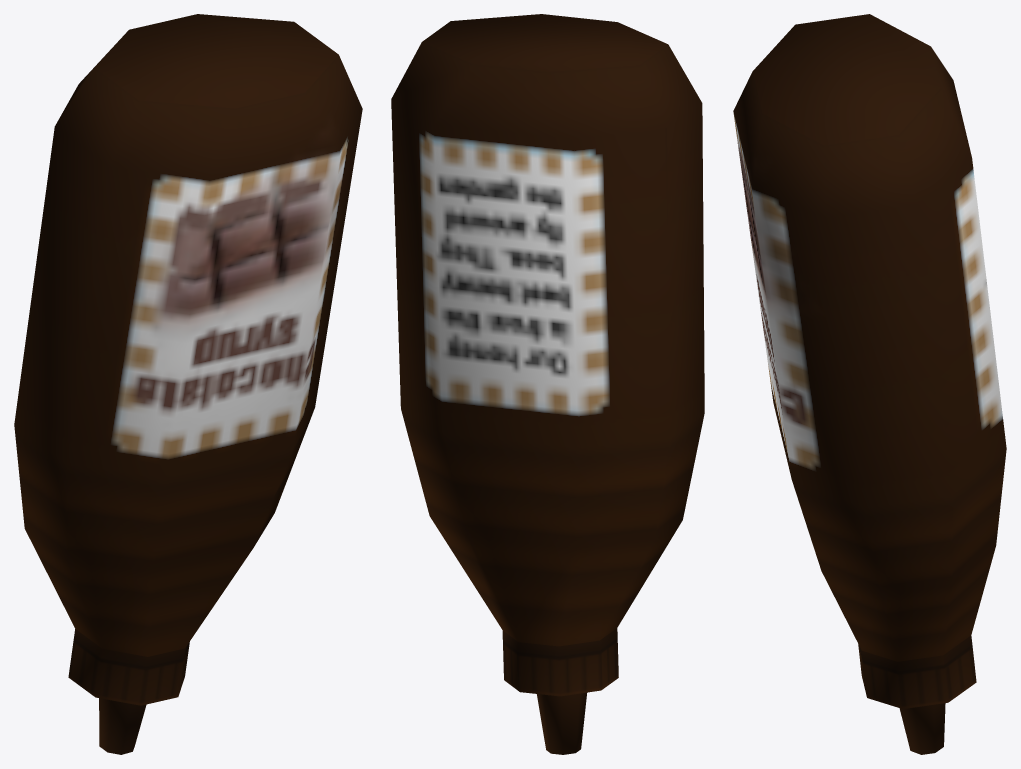
The model's file is H_SyrupBottle.fbx.
The picture shows the model from 3 angles, left to right: view 1: azimuth 30°, elevation 25°; view 2: azimuth 150°, elevation 25°; view 3: azimuth 270°, elevation 25°; orthographic projection. The views are drawn at different scales.
Parts seen in each view (by area): view 1: Syrup; view 2: Syrup; view 3: Syrup.
Part boxes in pixels (left/top/right/bottom): Syrup: left=14, top=14, right=362, bottom=754; Syrup: left=391, top=14, right=704, bottom=754; Syrup: left=733, top=14, right=1006, bottom=754.
Bounding box in the file's own units: 17.8 × 40.13 × 14.03.
